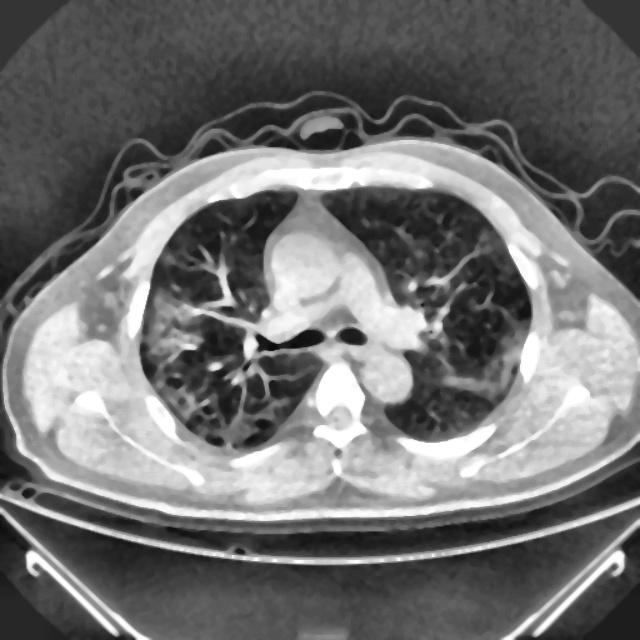covid: (1, 102, 638, 538)
